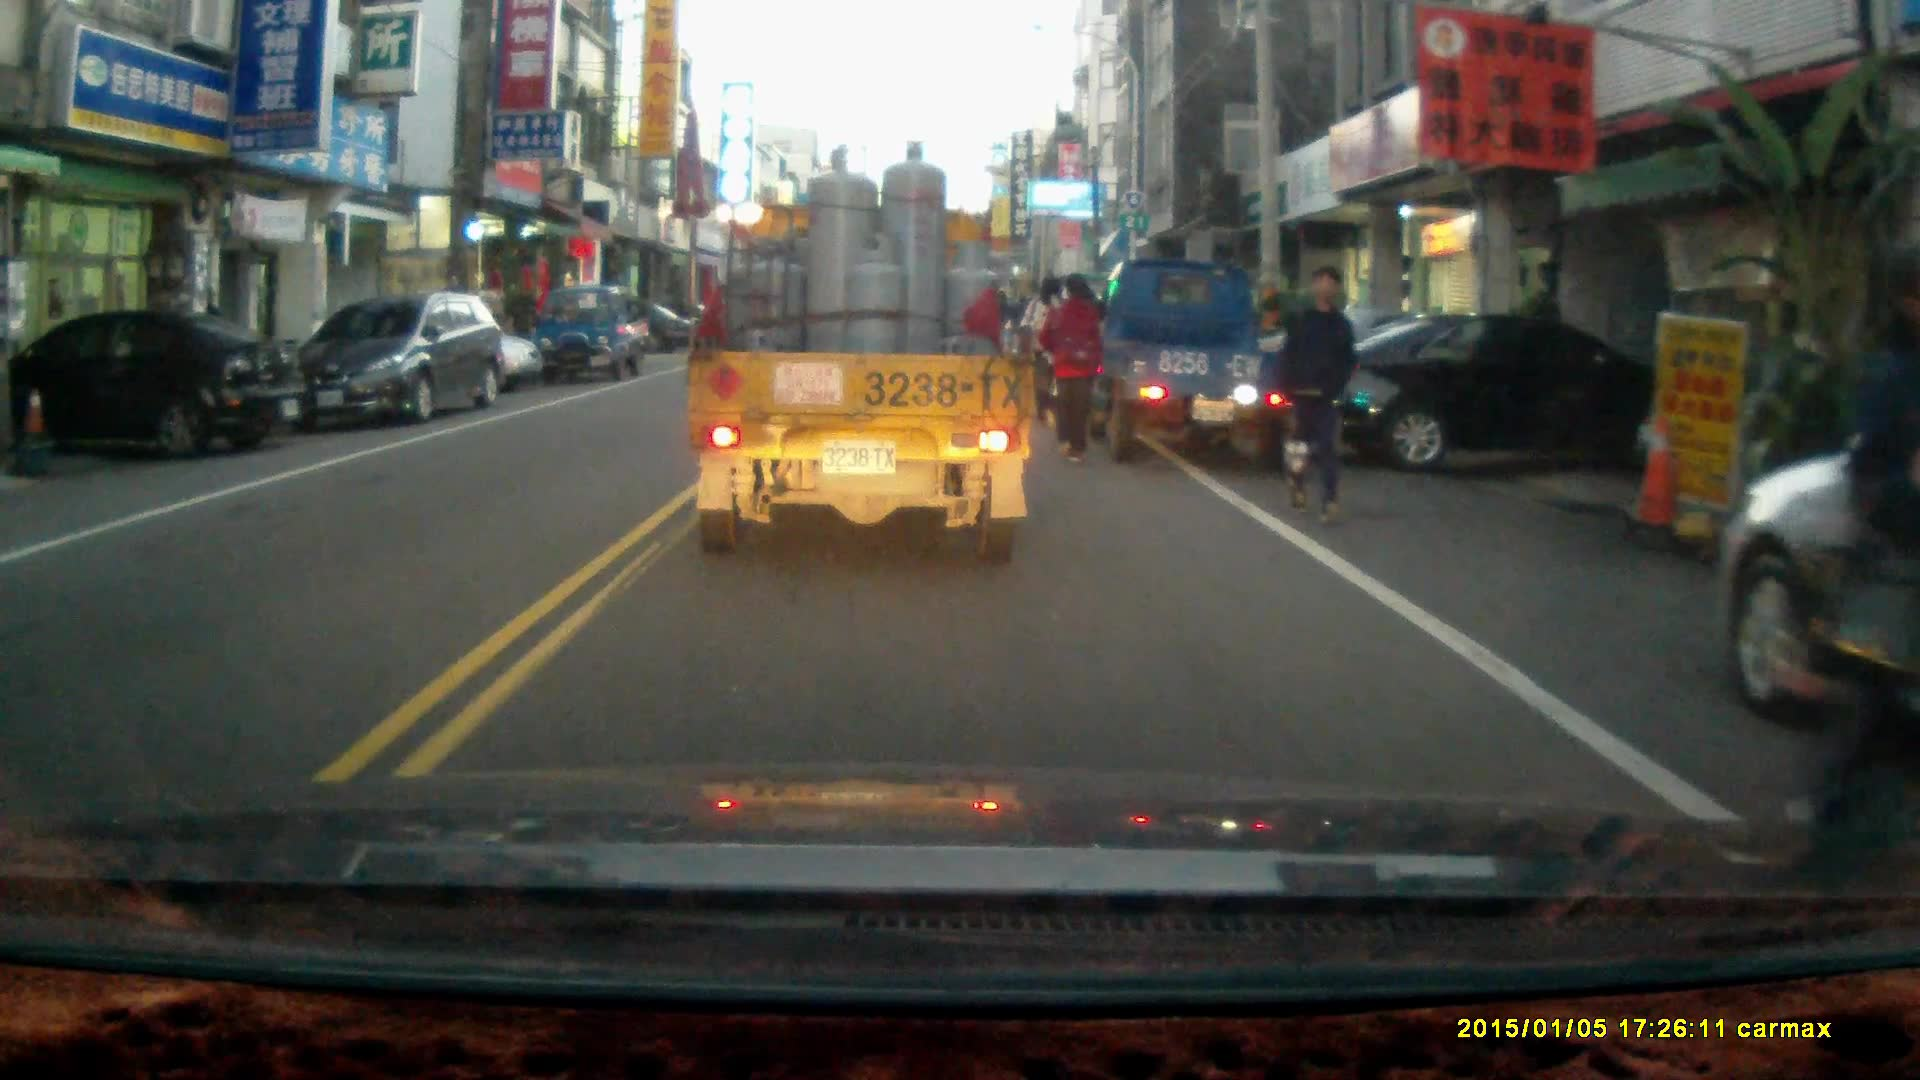pedestrian: (1793, 245, 1920, 836), (1270, 261, 1353, 523), (1034, 267, 1102, 461)
vehicle: (681, 139, 1038, 569), (1298, 304, 1637, 484), (1708, 451, 1920, 729), (1094, 255, 1328, 470), (1, 305, 313, 462), (281, 290, 515, 428), (535, 278, 653, 380)
